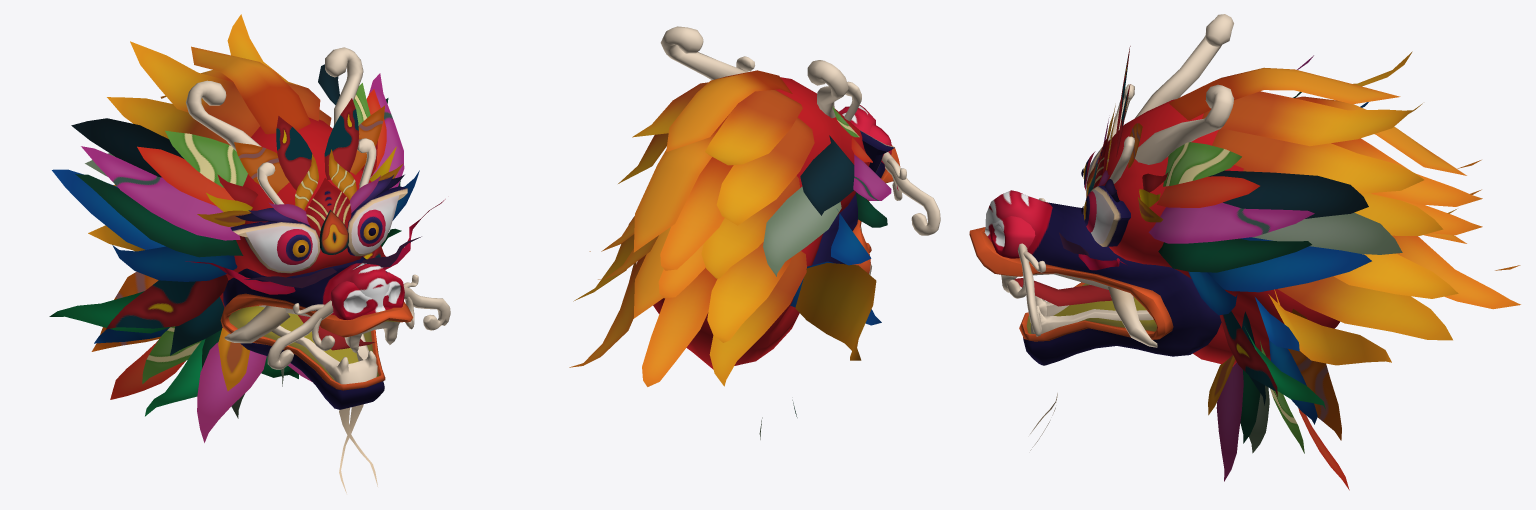
Rendered from DragonHead.gltf.
3 renders of one model, left to right at view 1: azimuth 30°, elevation 25°; view 2: azimuth 150°, elevation 25°; view 3: azimuth 270°, elevation 25°, orthographic. The views are drawn at different scales.
Visible parts, largest first — view 1: MouthShape, Hair_01:PIV (×2), Mane_04_R:PIV, HeadShape, Mane_11_R, Hair_08_R:PIV, Mane_05_R:PIV, Large_Horns:PIV, Mane_10_R:PIV, Mane_19_R:PIV, Mane_03_R:PIV, Mane_01_R:PIV (+31 smaller); view 2: HeadShape, Mane_14_R:PIV, Hair_07_R:PIV, Hair_08_R:PIV, Hair_02:PIV, MouthShape, Hair_11_R:PIV, Hair_01:PIV, Hair_05_R:PIV, Hair_09_R:PIV, Large_Horns:PIV, Hair_04_R:PIV (+14 smaller); view 3: MouthShape, HeadShape, Hair_07_L:PIV, Hair_08_L:PIV, Hair_04_L:PIV, Large_Horns:PIV, Mane_03_L:PIV, Mane_04_L:PIV, Hair_01:PIV, Mane_09_L:PIV, Mane_23_L:PIV, Mane_05_L:PIV (+23 smaller).
Part boxes in pixels (box(x1,y1,x2,y2)): MouthShape: box(220, 256, 450, 409); Hair_01:PIV (×2): box(191, 46, 348, 254); Mane_04_R:PIV: box(81, 146, 240, 240); HeadShape: box(220, 117, 371, 307); Mane_11_R: box(106, 275, 227, 329); Hair_08_R:PIV: box(130, 41, 259, 137); Mane_05_R:PIV: box(75, 174, 243, 257); Large_Horns:PIV: box(186, 47, 363, 151); Mane_10_R:PIV: box(112, 245, 237, 281); Mane_19_R:PIV: box(197, 342, 266, 442); Mane_03_R:PIV: box(71, 118, 183, 177); Mane_01_R:PIV: box(165, 130, 247, 187); HeadShape: box(653, 77, 869, 369); Mane_14_R:PIV: box(795, 263, 876, 360); Hair_07_R:PIV: box(716, 117, 814, 225); Hair_08_R:PIV: box(705, 90, 802, 165); Hair_02:PIV: box(633, 105, 736, 252); MouthShape: box(812, 105, 940, 275); Hair_11_R:PIV: box(642, 267, 717, 386); Hair_01:PIV: box(666, 70, 792, 151); Hair_05_R:PIV: box(707, 242, 791, 342); Hair_09_R:PIV: box(660, 157, 733, 270); Large_Horns:PIV: box(660, 26, 848, 118); Hair_04_R:PIV: box(709, 251, 806, 386); MouthShape: box(969, 190, 1221, 365); HeadShape: box(1097, 99, 1339, 366); Hair_07_L:PIV: box(1212, 129, 1423, 193); Hair_08_L:PIV: box(1202, 91, 1412, 146); Hair_04_L:PIV: box(1278, 276, 1452, 340); Large_Horns:PIV: box(1135, 14, 1234, 164); Mane_03_L:PIV: box(1208, 170, 1368, 218); Mane_04_L:PIV: box(1148, 202, 1314, 243); Hair_01:PIV: box(1169, 67, 1400, 120); Mane_09_L:PIV: box(1207, 237, 1371, 292); Mane_23_L:PIV: box(1252, 212, 1402, 254); Mane_05_L:PIV: box(1158, 238, 1311, 272).
Bounding box in the file's own units: 1596 × 1562 × 1938.
Materials: 1 (1 with a texture image).
